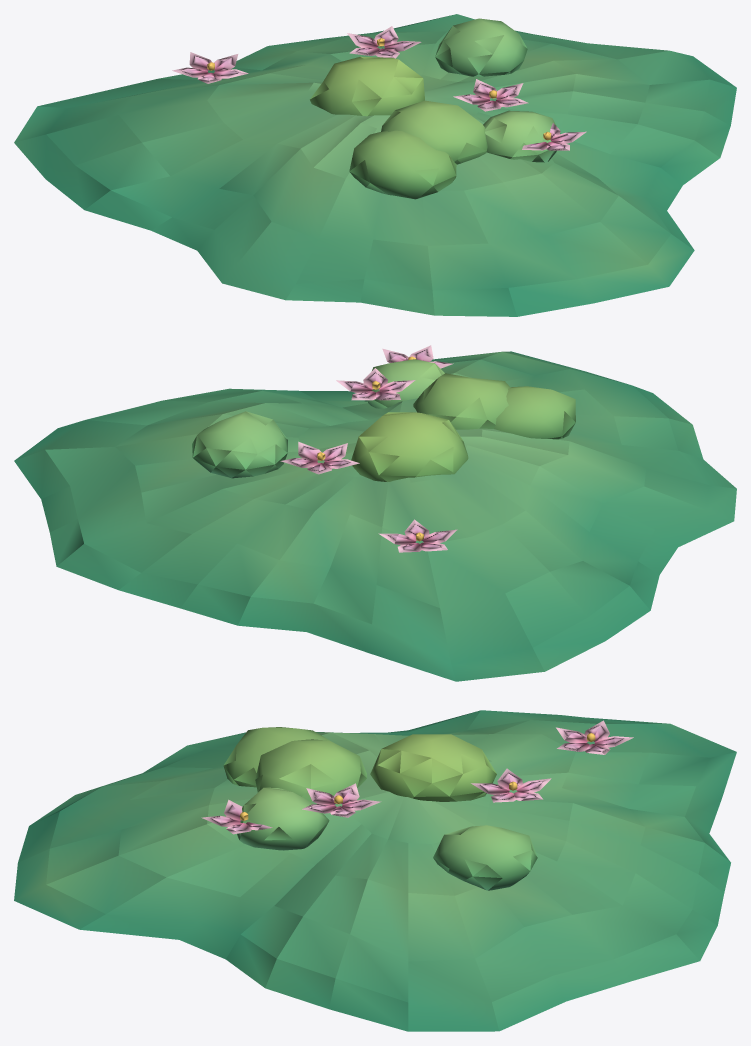
The model's file is verdant_ground_moss_pad.glb.
3 renders of one model, top to bottom at view 1: azimuth 30°, elevation 25°; view 2: azimuth 150°, elevation 25°; view 3: azimuth 270°, elevation 25°, orthographic. The views are drawn at different scales.
Parts seen in each view (by area): view 1: verdant_ground_moss_pad; view 2: verdant_ground_moss_pad; view 3: verdant_ground_moss_pad.
Boxes of the visible parts, x1,y1,x2,y2 form: verdant_ground_moss_pad: [14, 14, 736, 316]; verdant_ground_moss_pad: [14, 345, 736, 681]; verdant_ground_moss_pad: [14, 710, 736, 1031].
Bounding box in the file's own units: 2.06 × 0.3308 × 1.99.
